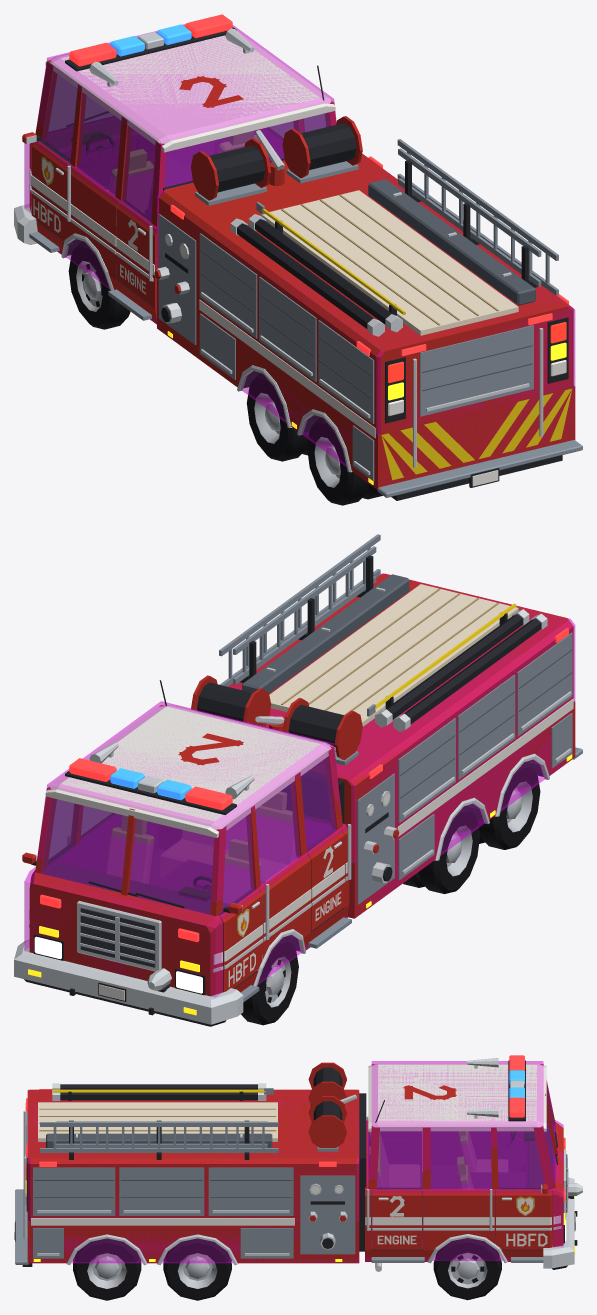
File: firetruck.glb
The picture shows the model from 3 angles, top to bottom: view 1: azimuth 30°, elevation 25°; view 2: azimuth 150°, elevation 25°; view 3: azimuth 270°, elevation 25°; orthographic projection. The views are drawn at different scales.
Visible parts, largest first — view 1: Body, Col_Cabin, Glass_L, Col_Box, Door_FL, Wheel_RL, Wheel_ML, Wheel_FL, Door_RL, Glass_Rear, Col_Body, Glass_Windshield; view 2: Body, Col_Cabin, Col_Box, Glass_Windshield, Glass_L, Col_Body, Door_FL, Wheel_ML, Wheel_RL, Wheel_FL, Door_RL, Glass_R (+1 smaller); view 3: Body, Col_Cabin, Glass_R, Col_Box, Door_FR, Wheel_RR, Wheel_MR, Wheel_FR, Col_Body, Door_RR, Door_RL, Door_FL.
Part boxes in pixels (x1=…): Body: x1=14, y1=14, x2=582, y2=500; Col_Cabin: x1=37, y1=24, x2=336, y2=221; Glass_L: x1=42, y1=72, x2=154, y2=220; Col_Box: x1=157, y1=170, x2=575, y2=468; Door_FL: x1=22, y1=132, x2=71, y2=240; Wheel_RL: x1=307, y1=417, x2=382, y2=505; Wheel_ML: x1=246, y1=373, x2=309, y2=461; Wheel_FL: x1=68, y1=241, x2=130, y2=329; Door_RL: x1=116, y1=200, x2=154, y2=304; Glass_Rear: x1=164, y1=112, x2=329, y2=186; Col_Body: x1=24, y1=141, x2=156, y2=323; Glass_Windshield: x1=49, y1=75, x2=114, y2=131; Body: x1=14, y1=534, x2=582, y2=1026; Col_Cabin: x1=37, y1=701, x2=340, y2=914; Col_Box: x1=229, y1=573, x2=575, y2=915; Glass_Windshield: x1=41, y1=798, x2=213, y2=914; Glass_L: x1=222, y1=757, x2=335, y2=910; Col_Body: x1=24, y1=824, x2=347, y2=997; Door_FL: x1=218, y1=888, x2=263, y2=992; Wheel_ML: x1=403, y1=805, x2=480, y2=893; Wheel_RL: x1=477, y1=761, x2=540, y2=849; Wheel_FL: x1=241, y1=937, x2=298, y2=1025; Door_RL: x1=307, y1=828, x2=345, y2=931; Glass_R: x1=48, y1=800, x2=113, y2=861; Body: x1=14, y1=1055, x2=582, y2=1271; Col_Cabin: x1=368, y1=1061, x2=555, y2=1190; Glass_R: x1=377, y1=1131, x2=544, y2=1188; Col_Box: x1=28, y1=1089, x2=358, y2=1263; Door_FR: x1=495, y1=1184, x2=552, y2=1249; Wheel_RR: x1=73, y1=1238, x2=141, y2=1300; Wheel_MR: x1=163, y1=1238, x2=231, y2=1300; Wheel_FR: x1=433, y1=1240, x2=501, y2=1300; Col_Body: x1=365, y1=1120, x2=563, y2=1260; Door_RR: x1=372, y1=1188, x2=421, y2=1249; Door_RL: x1=381, y1=1132, x2=421, y2=1172; Door_FL: x1=499, y1=1132, x2=525, y2=1171.
Size of what is drawn, in the model's own units: 2.83 by 3.15 by 8.3.
